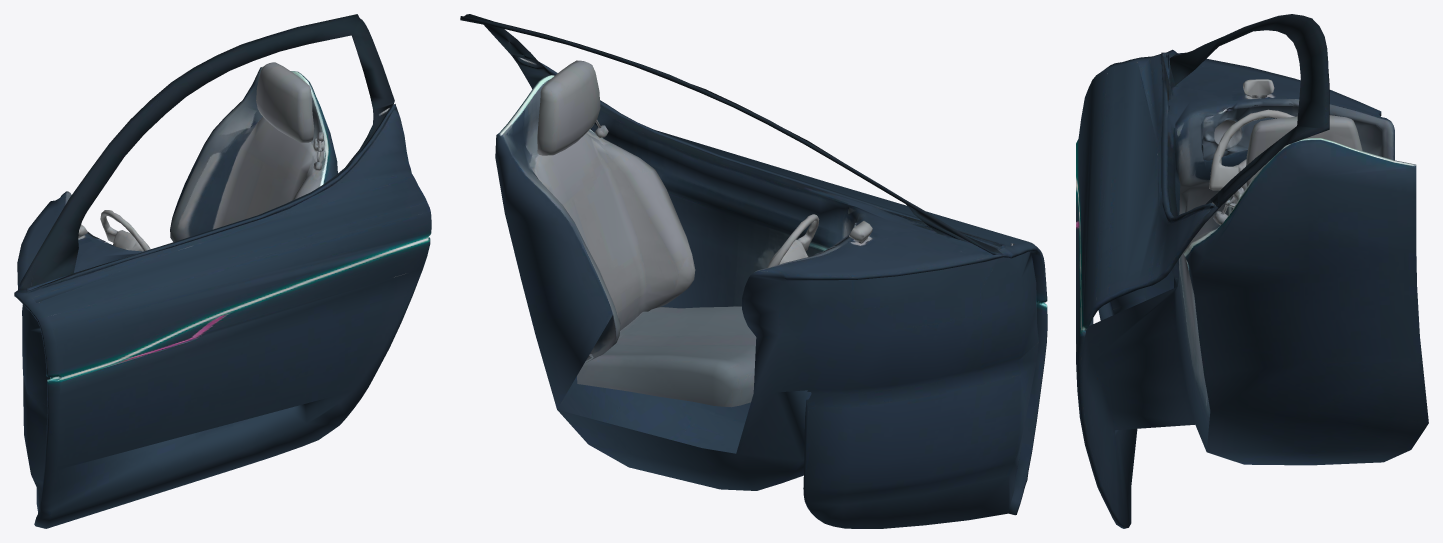
Rendered from original_glb.glb.
The picture shows the model from 3 angles, left to right: view 1: azimuth 30°, elevation 25°; view 2: azimuth 150°, elevation 25°; view 3: azimuth 270°, elevation 25°; orthographic projection. The views are drawn at different scales.
Visible parts, largest first — view 1: left door; view 2: left door; view 3: left door.
Boxes of the visible parts, x1,y1,x2,y2 form: left door: (14, 14, 431, 528); left door: (460, 14, 1047, 528); left door: (1076, 14, 1428, 528).
Size of the model in its own units: 0.998 by 0.8848 by 0.5488.
1 material, 1 textured.
